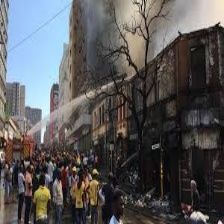smoke: (162, 1, 215, 25)
